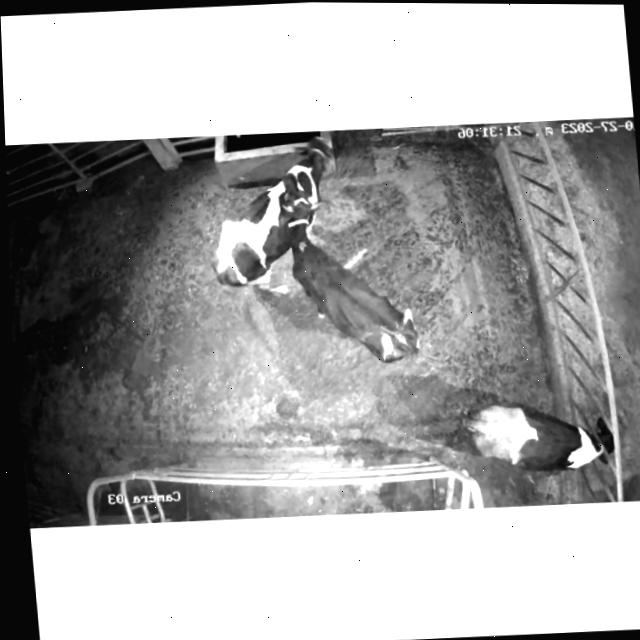eat: (550, 404, 640, 487)
propping: (264, 168, 333, 265)
stand: (191, 138, 347, 288)
